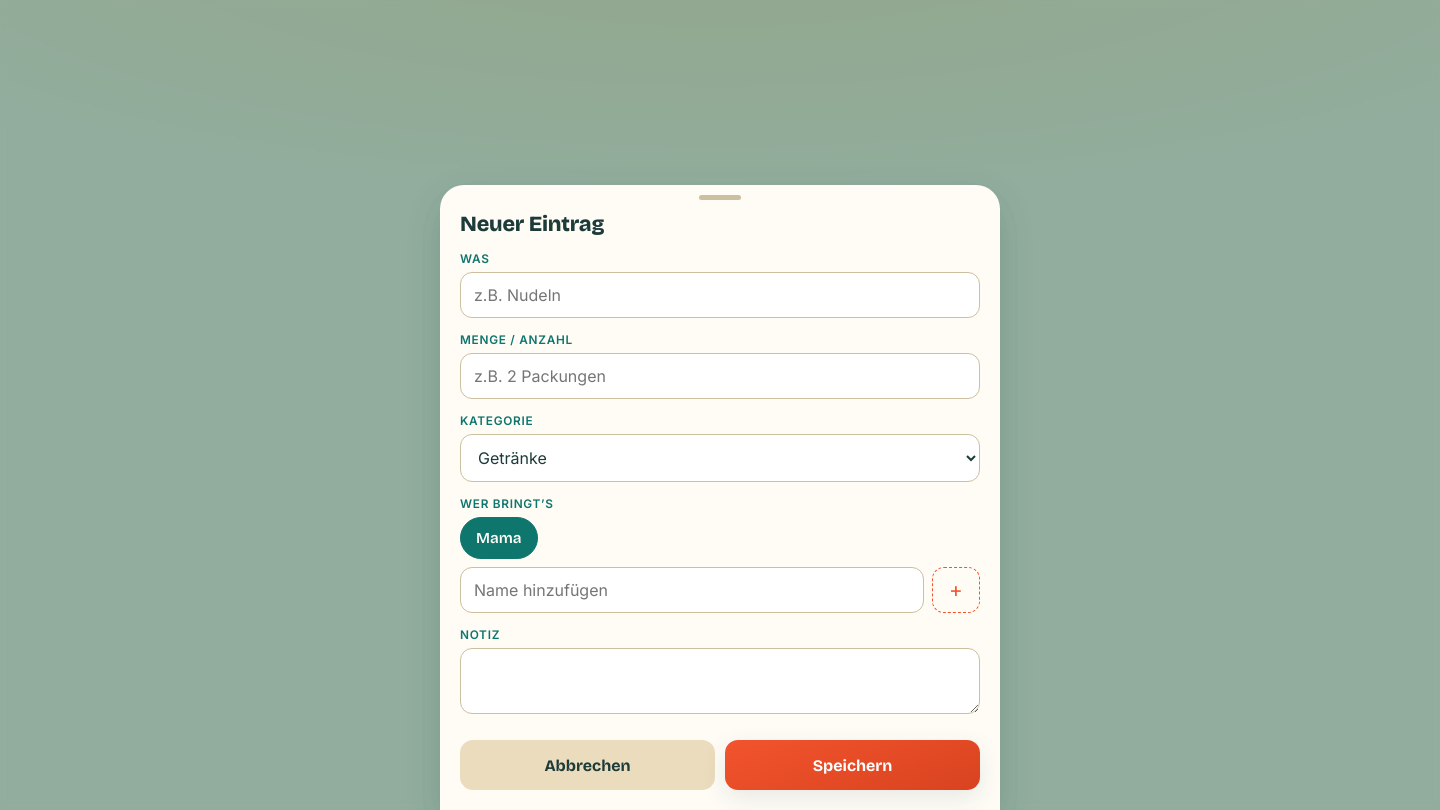
it: ItemSheet › blocks save when Was is empty and shows an error
The image size is (1440, 810).
Click the button "Speichern". click: (852, 765)
box: [725,740,980,790]
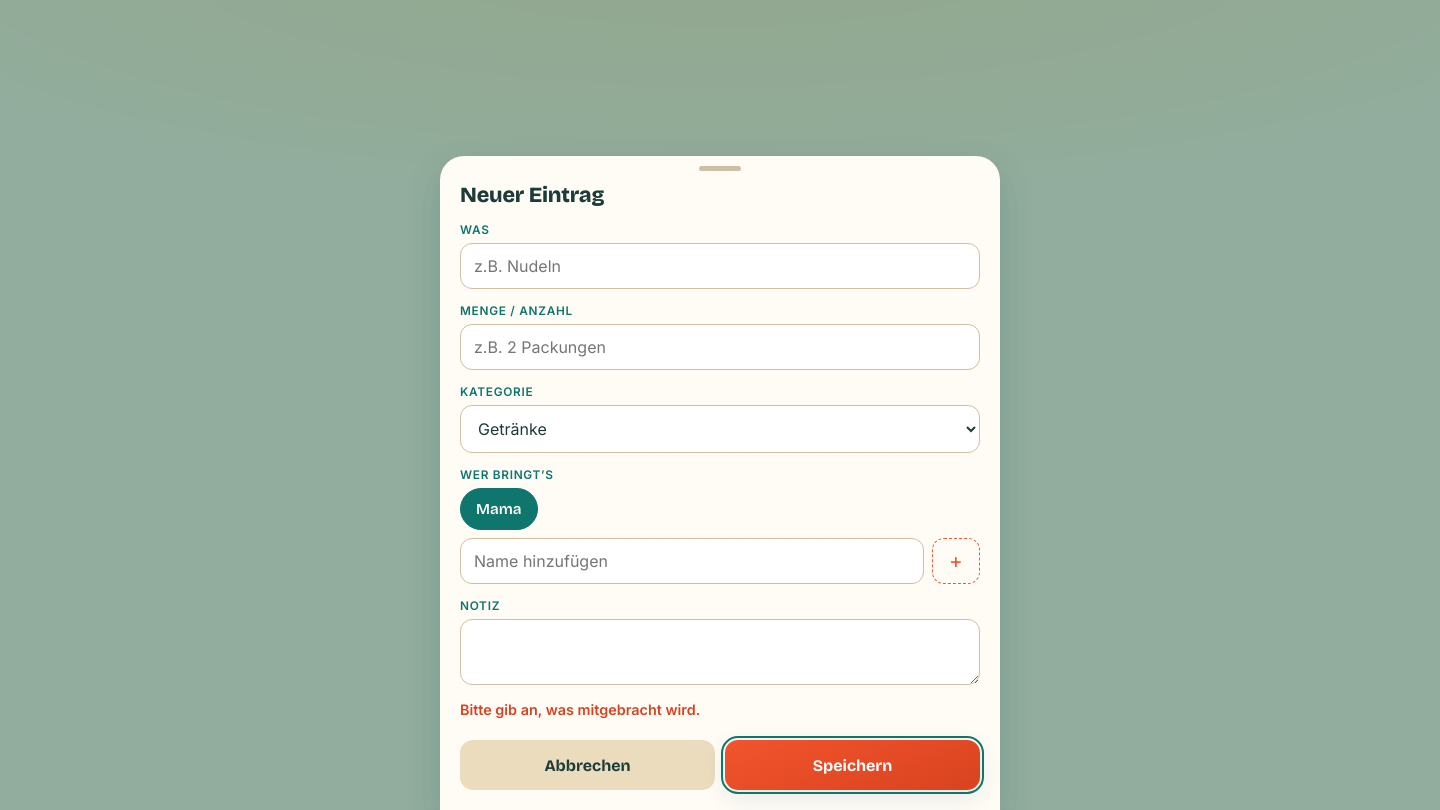
Result: the text "Bitte gib an, was mitgebracht wird." is shown at [460,701,700,718]
